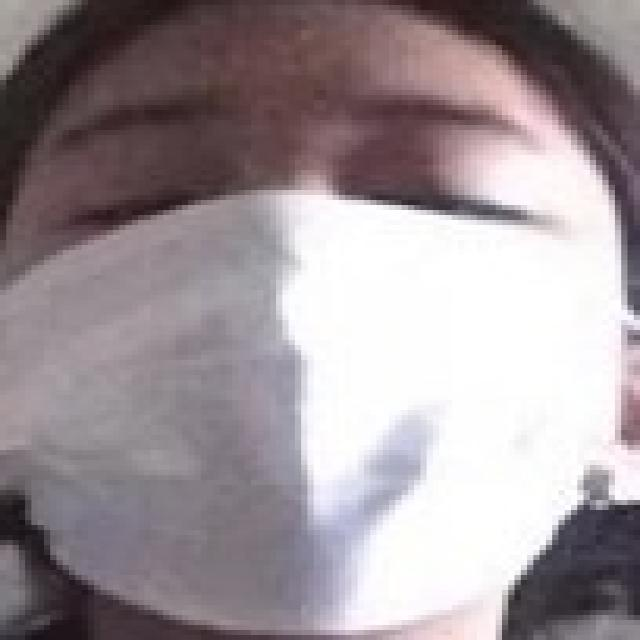mask: (12, 40, 640, 640)
